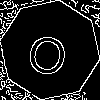O: (25, 25, 71, 77)
